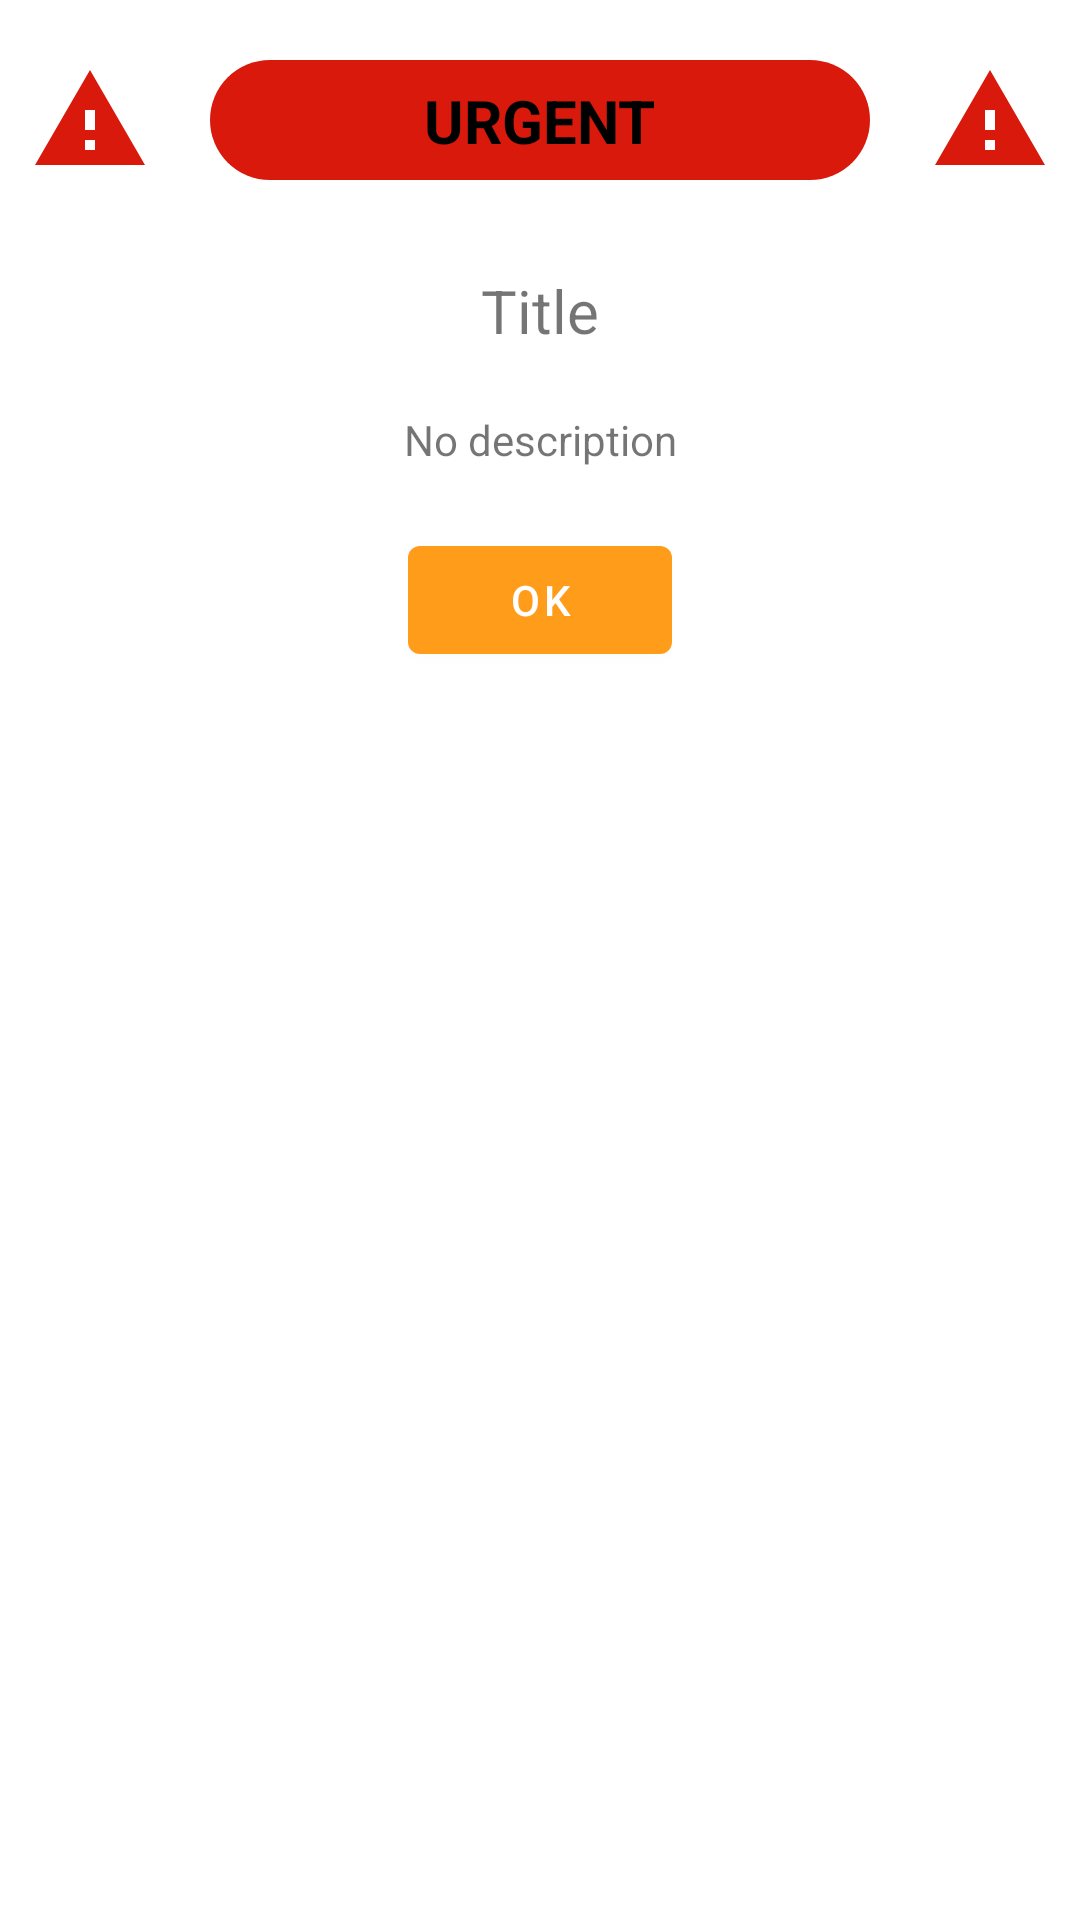

Screen size 1080x1920. Icon name, then its center in pixels as (x=x, y=y):
warning: (x=90, y=117), (x=990, y=117)
